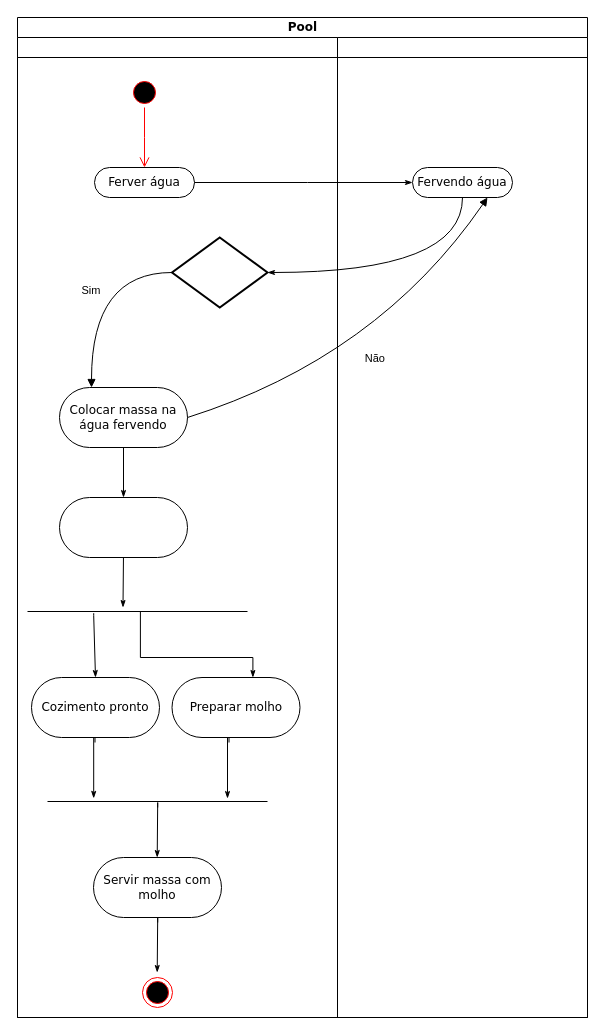
The diagram is 605 pixels wide and 1035 high, and some of its shapes have lost their labels. The shapes that lost their labels are listed below. From the top down, each one's box as (x1, y1, x2, y2) in pixels, then its label:
(170, 236, 268, 308): água está fervida?
(58, 496, 188, 558): Aguardar cozimento
(16, 36, 338, 1018): Pessoa
(336, 36, 588, 1018): Panela
